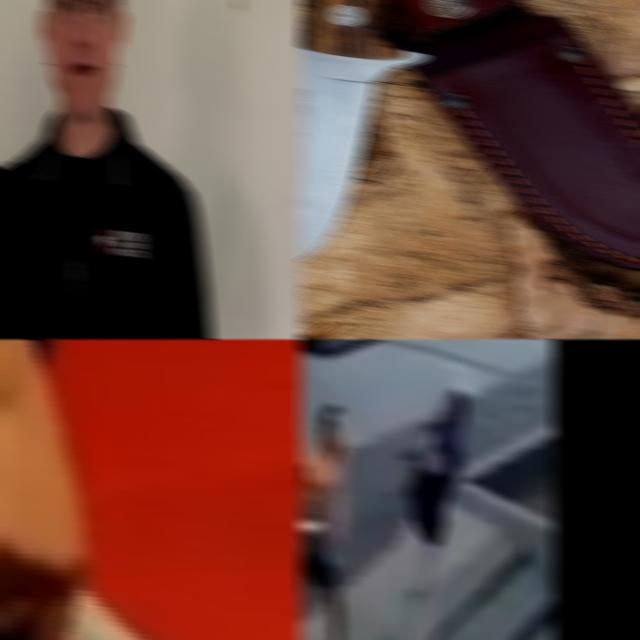Knife_Handle: (0, 464, 204, 640), (297, 518, 324, 532), (297, 520, 326, 532)
